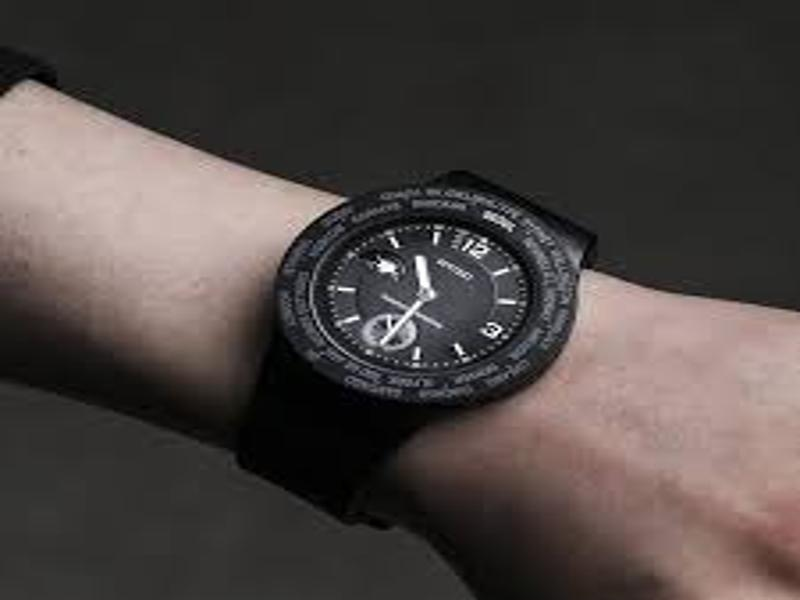watch: (243, 166, 602, 527)
